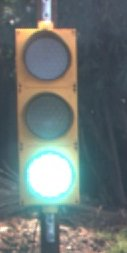Green: (8, 17, 91, 228)
